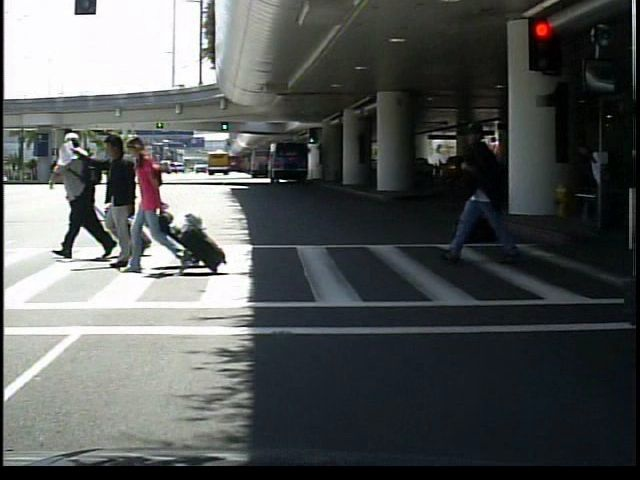person: (447, 113, 522, 265)
